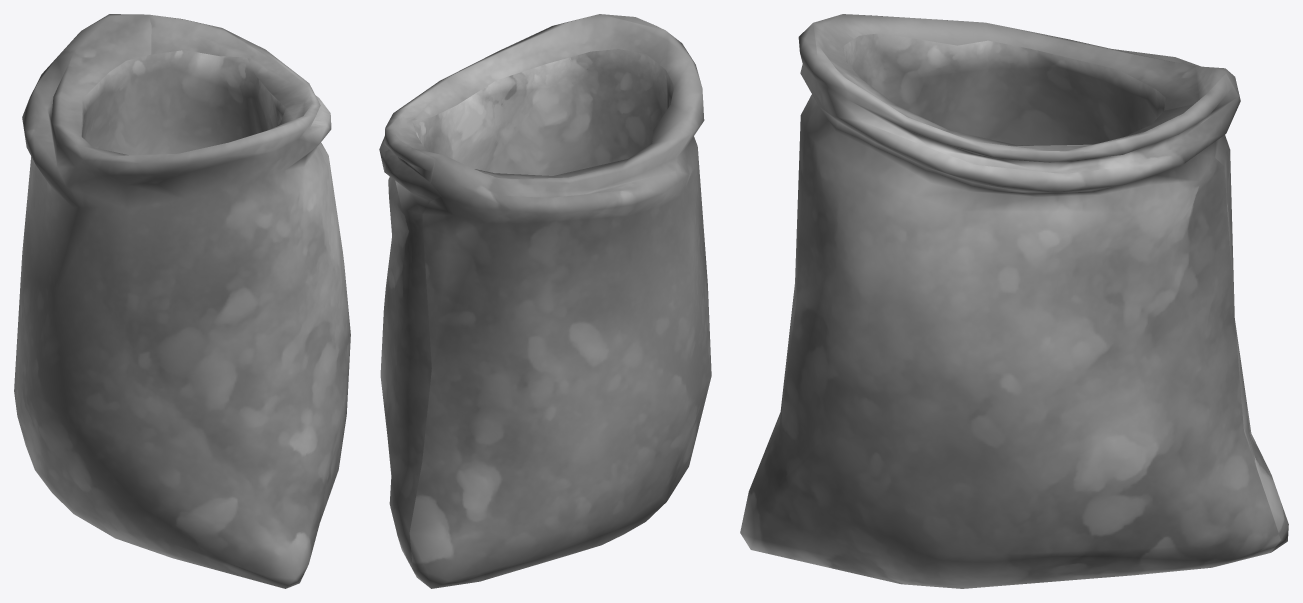
Rendered from SM_Grain_Sack_02a.fbx.
3 renders of one model, left to right at view 1: azimuth 30°, elevation 25°; view 2: azimuth 150°, elevation 25°; view 3: azimuth 270°, elevation 25°, orthographic. The views are drawn at different scales.
Visible parts, largest first — view 1: SM_Grain_Sack_02a_LOD0; view 2: SM_Grain_Sack_02a_LOD0; view 3: SM_Grain_Sack_02a_LOD0.
Part boxes in pixels (left/top/right/bottom): SM_Grain_Sack_02a_LOD0: left=14, top=14, right=350, bottom=588; SM_Grain_Sack_02a_LOD0: left=379, top=14, right=711, bottom=588; SM_Grain_Sack_02a_LOD0: left=740, top=14, right=1288, bottom=588.
Bounding box in the file's own units: 65.83 × 94.51 × 97.29.
